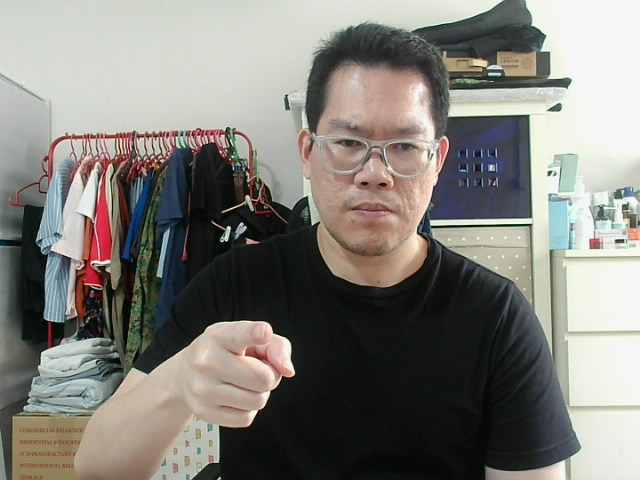you: (182, 335, 285, 419)
